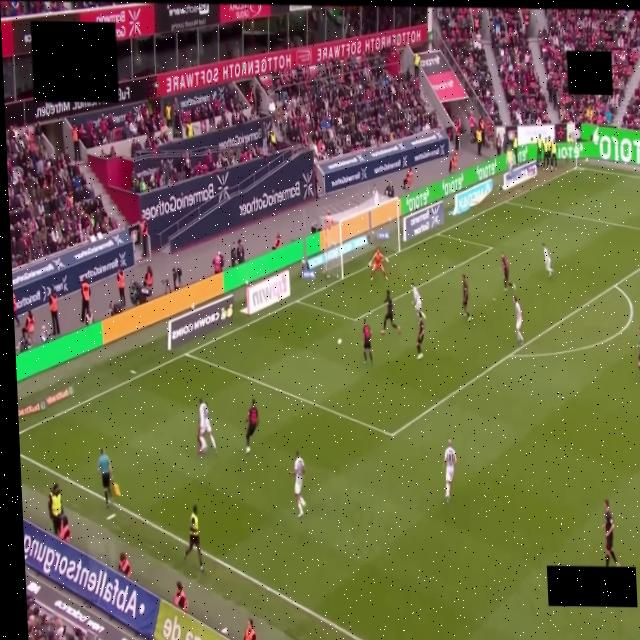ball: (337, 338, 343, 345)
player: (601, 500, 620, 567), (197, 399, 216, 454), (290, 451, 305, 517), (380, 291, 400, 333), (443, 439, 456, 501), (245, 399, 258, 453), (369, 248, 387, 280), (410, 283, 425, 319), (512, 296, 523, 345), (501, 253, 513, 291), (362, 319, 372, 363), (542, 243, 554, 277), (462, 275, 470, 321), (416, 314, 424, 359)
referee: (637, 329, 639, 373)
